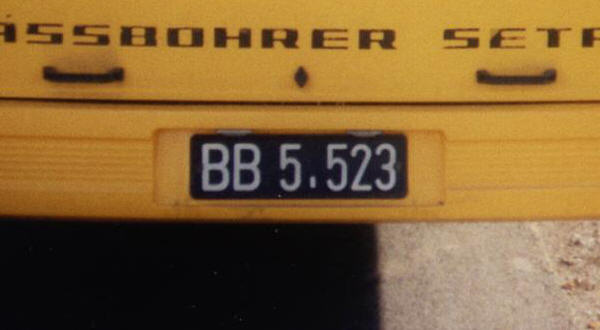license_plate: (189, 134, 409, 198)
